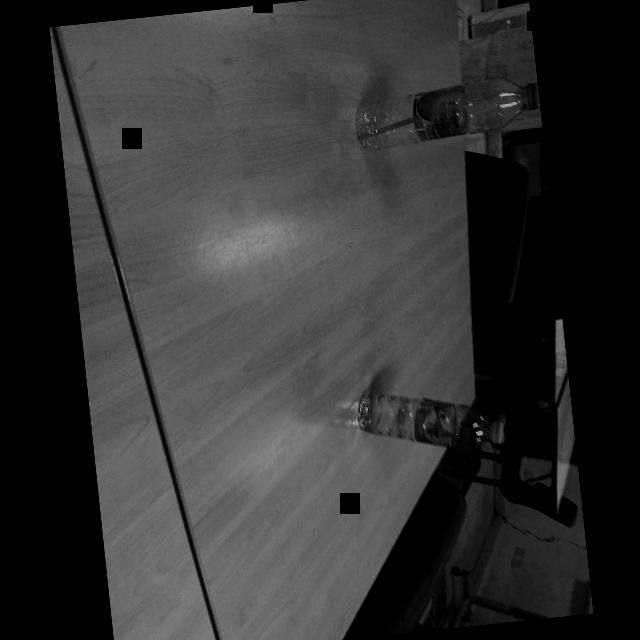plastic_bottle: (350, 70, 542, 152), (353, 378, 505, 462)
